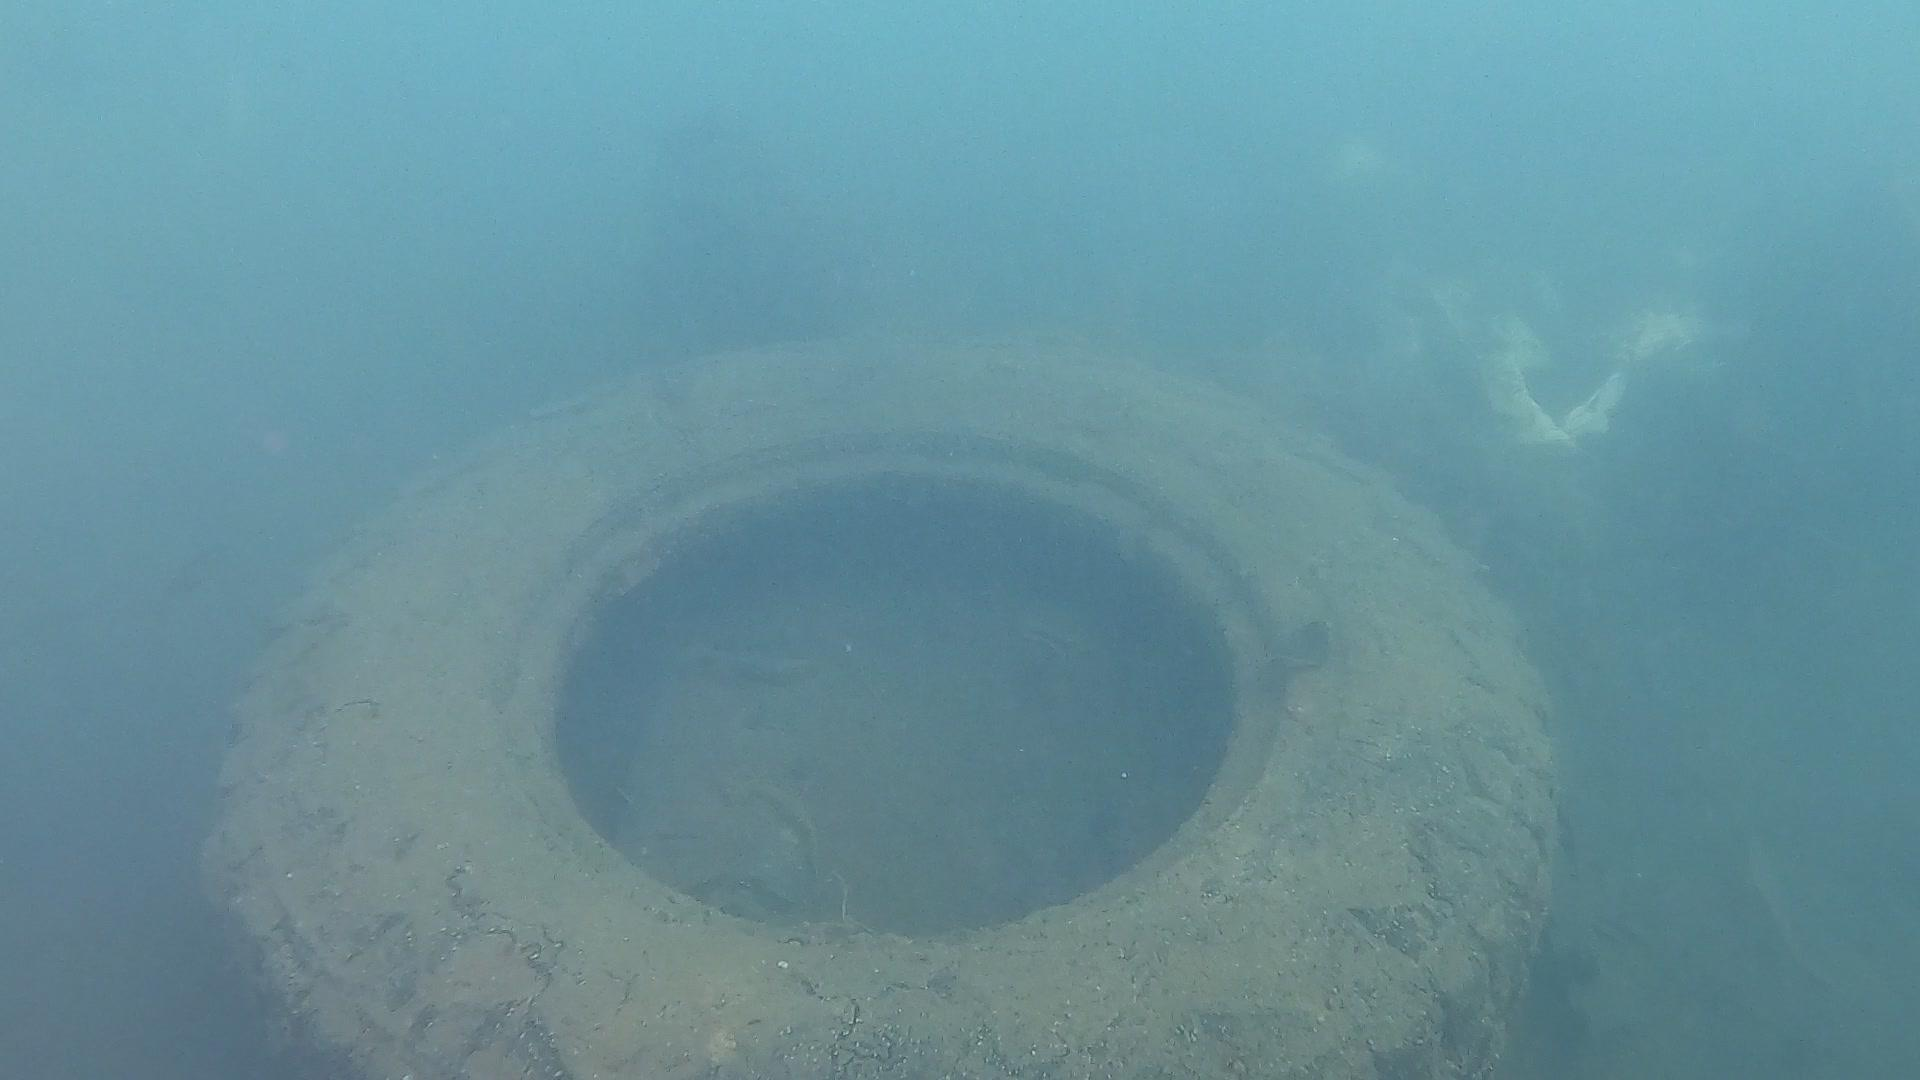tire: (214, 320, 1569, 1080)
